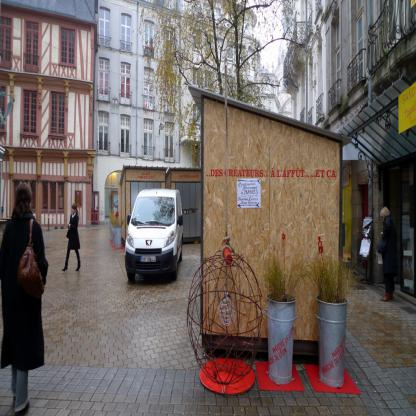Car: (116, 184, 181, 281)
